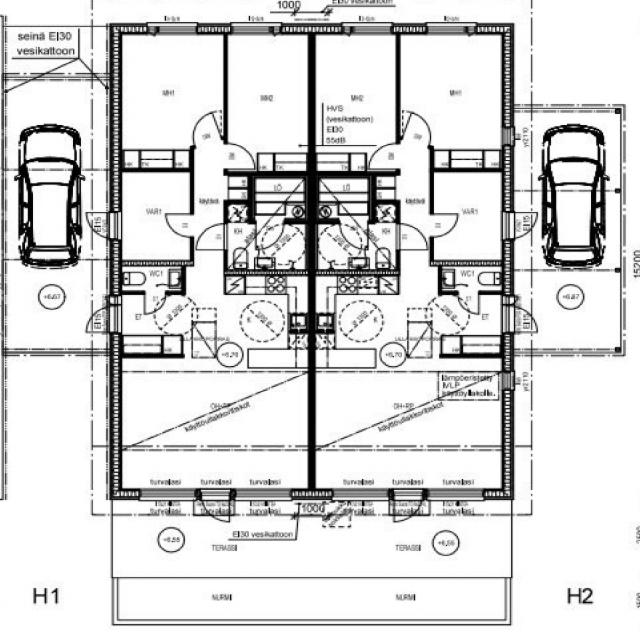door: (185, 112, 222, 148), (402, 114, 435, 146), (502, 306, 541, 332), (82, 306, 121, 332), (202, 489, 230, 525), (502, 212, 540, 238), (82, 213, 121, 238), (394, 489, 421, 525), (340, 218, 368, 249), (196, 224, 228, 250), (396, 224, 427, 250), (256, 218, 282, 248), (224, 144, 254, 169), (370, 144, 400, 168), (166, 213, 194, 237), (430, 215, 457, 236), (144, 291, 166, 314), (458, 291, 478, 313), (99, 296, 122, 306), (502, 296, 524, 306)
